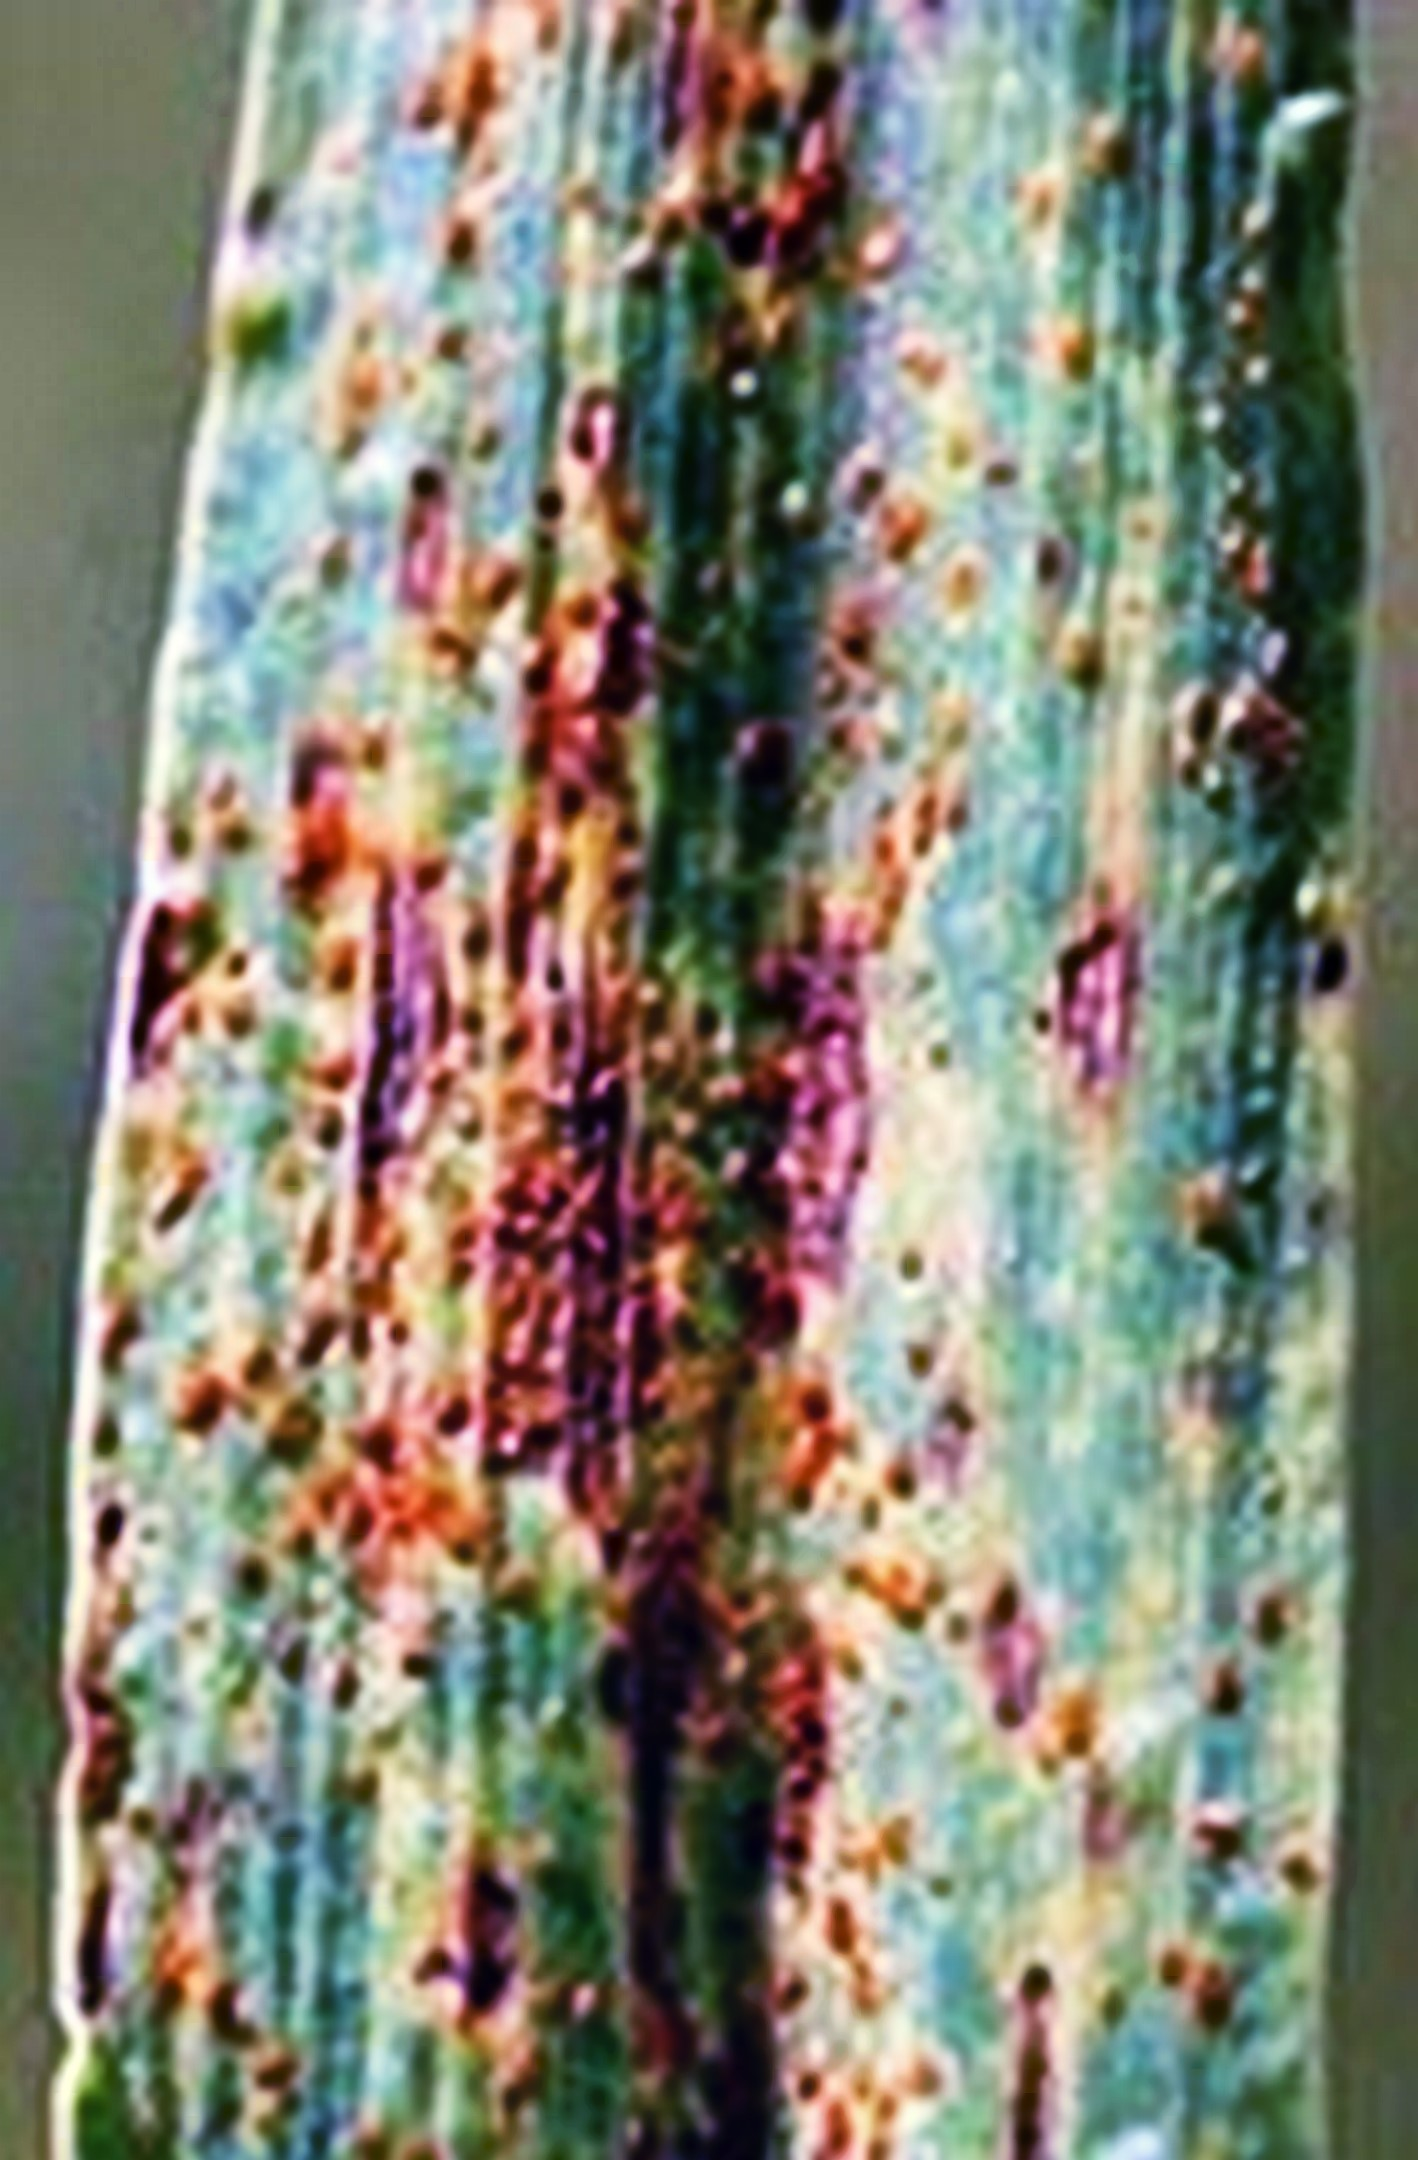Leaf Rust: (81, 203, 1374, 1975)
